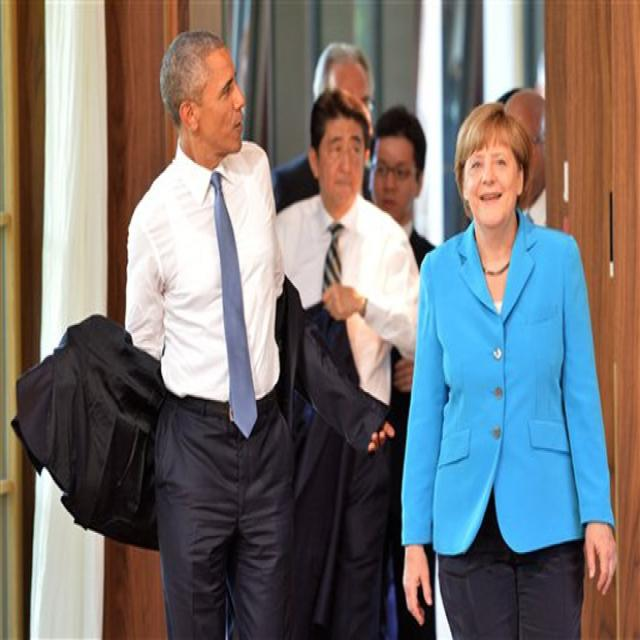body: (6, 24, 400, 638), (396, 97, 624, 638), (271, 86, 424, 412), (269, 36, 379, 214), (368, 106, 438, 270)
